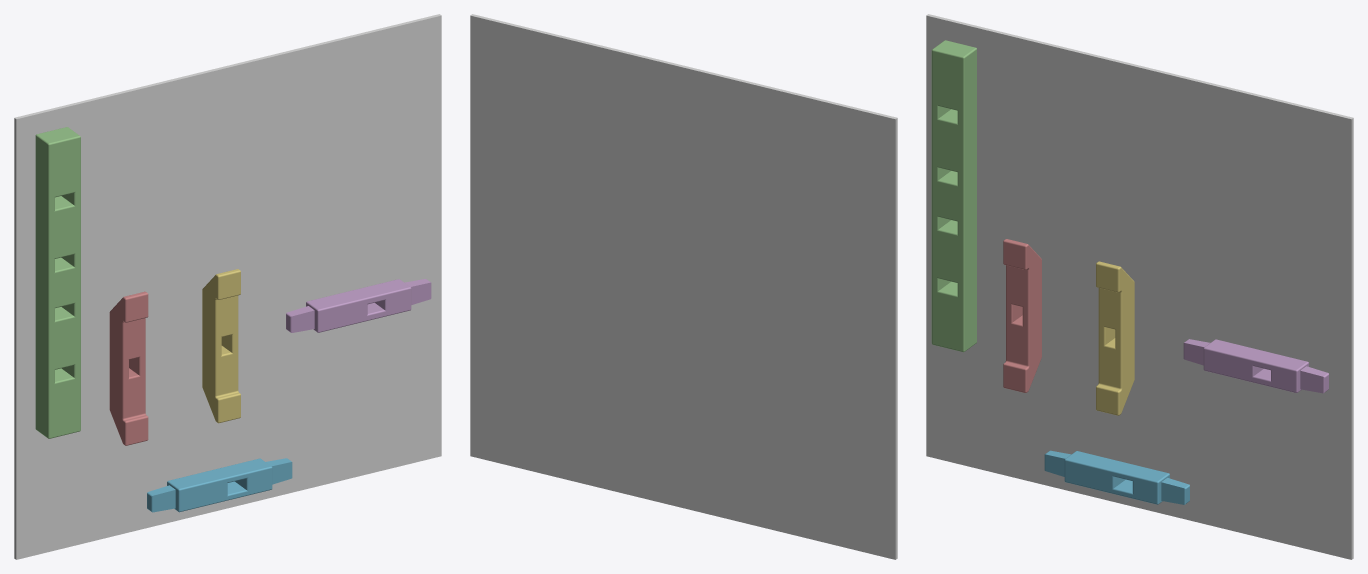
The model's file is pickup_layout.glb.
3 renders of one model, left to right at view 1: azimuth 30°, elevation 25°; view 2: azimuth 150°, elevation 25°; view 3: azimuth 330°, elevation 25°, orthographic.
Parts seen in each view (by area): view 1: world, 6.obj, 0.obj, 1.obj, 2.obj, 3.obj; view 2: world; view 3: world, 6.obj, 1.obj, 0.obj, 2.obj, 3.obj.
Boxes of the visible parts, box(x1,y1,x2,y2) form: world: box(14, 14, 441, 559); 6.obj: box(35, 127, 80, 438); 0.obj: box(109, 291, 148, 445); 1.obj: box(202, 269, 240, 423); 2.obj: box(147, 458, 292, 512); 3.obj: box(286, 279, 431, 332); world: box(470, 14, 897, 559); world: box(926, 14, 1353, 559); 6.obj: box(931, 40, 976, 352); 1.obj: box(1096, 261, 1134, 415); 0.obj: box(1003, 239, 1041, 392); 2.obj: box(1044, 450, 1189, 504); 3.obj: box(1183, 339, 1328, 393).
Size of the model in its own units: 22.95 by 22.72 by 1.72.
